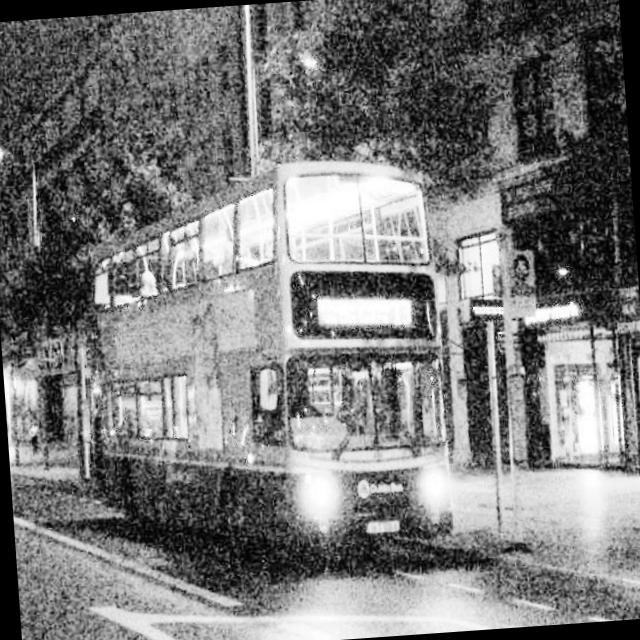Bus: (72, 173, 498, 624)
